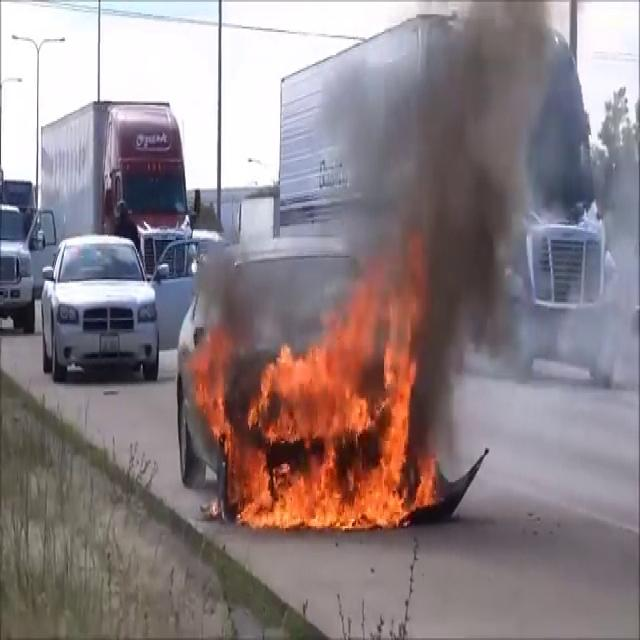Fire: (197, 275, 430, 543)
Smoke: (336, 2, 562, 400)
